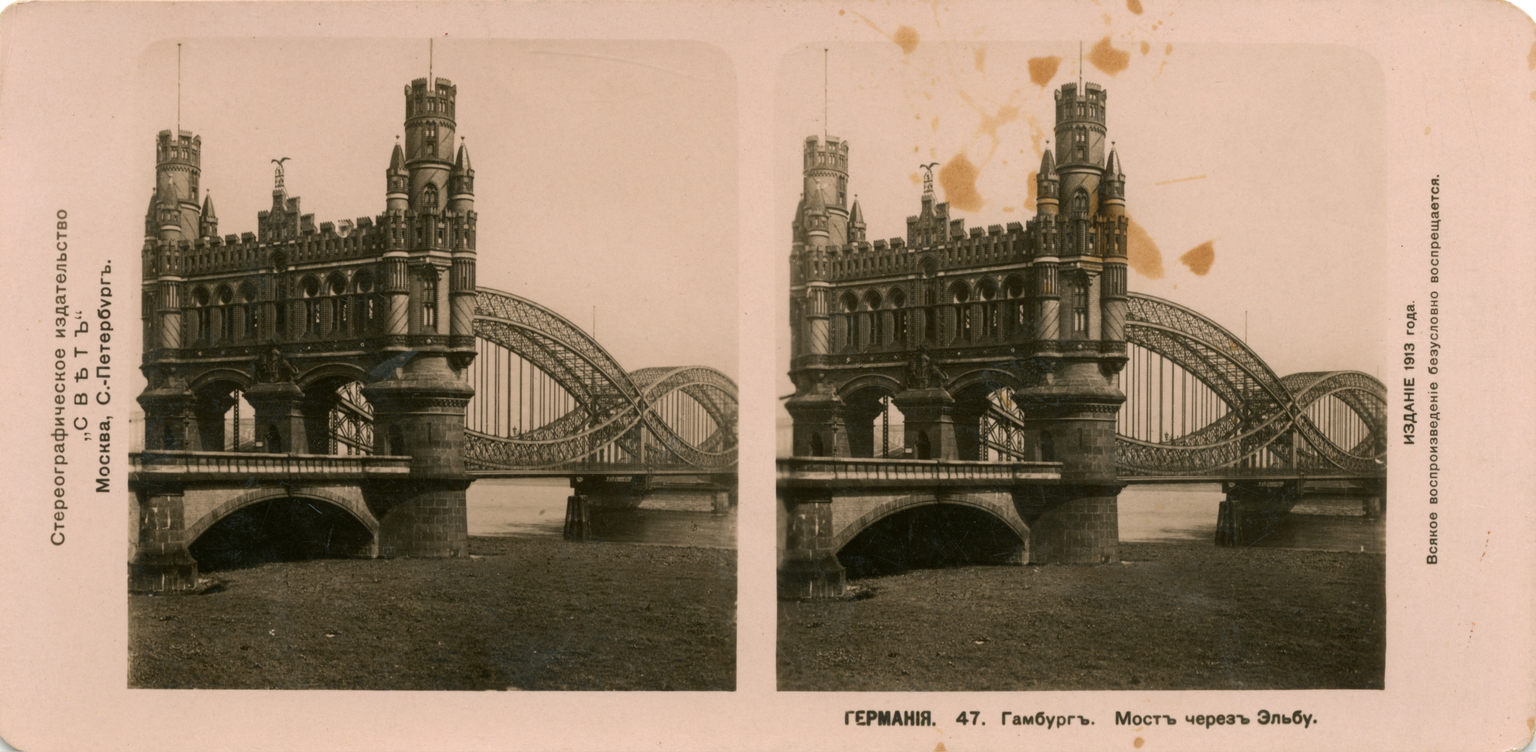half_image: (127, 36, 739, 690), (776, 41, 1387, 690)
